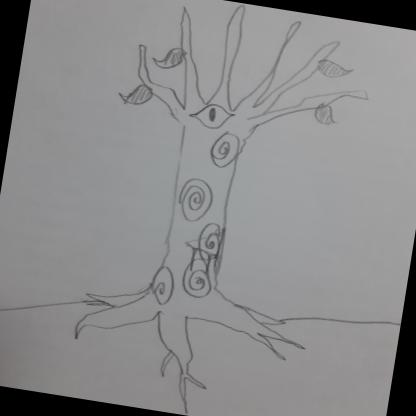branch_cut: (126, 0, 379, 158)
knot: (172, 174, 216, 224), (178, 256, 215, 298), (206, 128, 241, 170), (147, 263, 177, 306), (195, 222, 223, 262)
root_upside: (66, 263, 311, 416)
trunk_straight: (160, 140, 244, 269)
